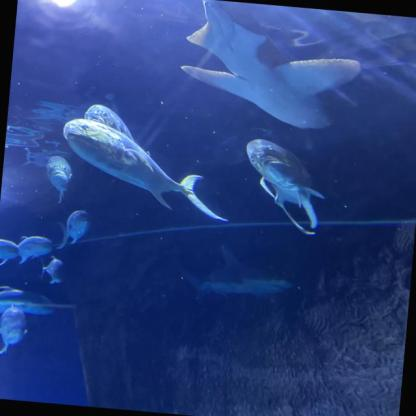fish: (54, 120, 233, 225), (235, 134, 341, 229), (72, 105, 159, 164), (0, 284, 67, 319), (0, 302, 35, 356), (7, 231, 56, 264), (58, 208, 95, 250), (47, 154, 78, 196), (38, 258, 76, 288), (0, 234, 25, 270)
shark: (169, 0, 363, 135), (174, 242, 296, 305)
